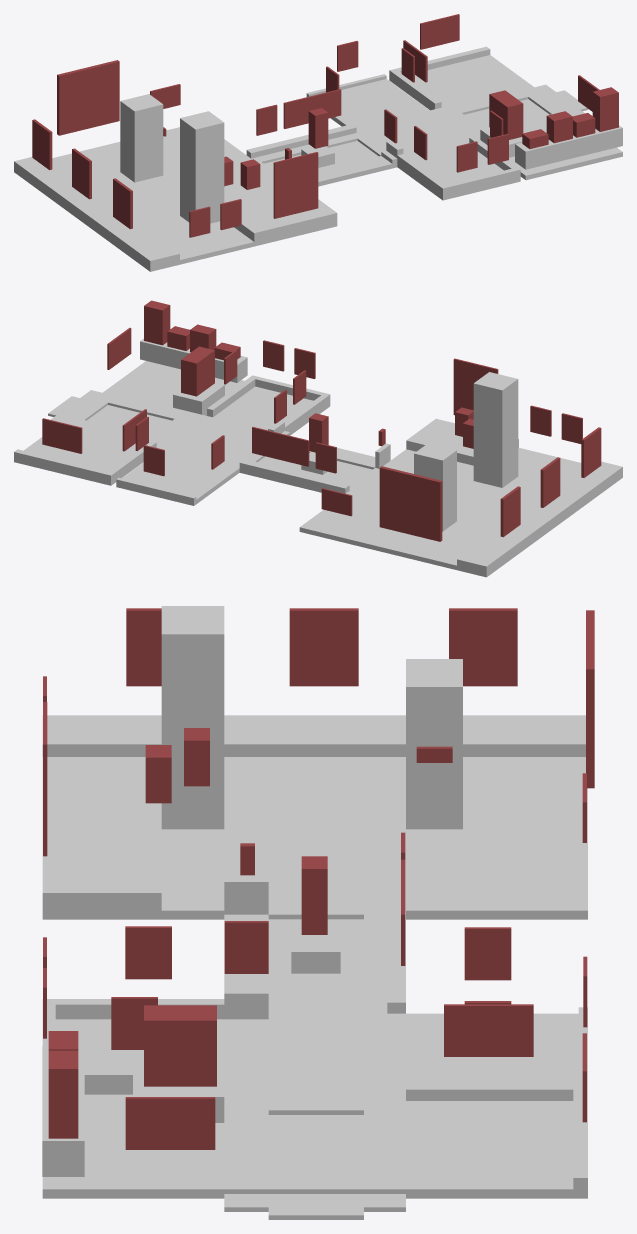
File: lapetitegalerie.fbx
The picture shows the model from 3 angles, top to bottom: view 1: azimuth 30°, elevation 25°; view 2: azimuth 150°, elevation 25°; view 3: azimuth 270°, elevation 25°; orthographic projection. The views are drawn at different scales.
Visible parts, largest first — view 1: Cube, Cube.028, Cube.018, Cube.029, Cube.017, Cube.001, Cube.006, Cube.032, Cube.024, Cube.023, Cube.025, Cube.004 (+16 smaller); view 2: Cube, Cube.028, Cube.017, Cube.001, Cube.029, Cube.018, Cube.006, Cube.032, Cube.024, Cube.023, Cube.025, Cube.022 (+12 smaller); view 3: Cube, Cube.001, Cube.023, Cube.024, Cube.003, Cube.005, Cube.029, Cube.025, Cube.032, Cube.012, Cube.007, Cube.014 (+5 smaller).
Part boxes in pixels (<box>): Cube: <box>14,46,622,271</box>; Cube.028: <box>57,60,119,135</box>; Cube.018: <box>273,152,318,218</box>; Cube.029: <box>515,125,622,169</box>; Cube.017: <box>283,89,341,128</box>; Cube.001: <box>489,90,523,139</box>; Cube.006: <box>420,14,459,49</box>; Cube.032: <box>592,87,618,131</box>; Cube.024: <box>32,119,52,170</box>; Cube.023: <box>72,148,91,199</box>; Cube.025: <box>113,178,132,229</box>; Cube.004: <box>308,108,328,148</box>; Cube: <box>14,361,622,577</box>; Cube.028: <box>379,466,442,541</box>; Cube.017: <box>252,427,309,466</box>; Cube.001: <box>181,346,214,396</box>; Cube.029: <box>140,338,247,382</box>; Cube.018: <box>453,358,498,415</box>; Cube.006: <box>42,418,82,453</box>; Cube.032: <box>144,300,170,345</box>; Cube.024: <box>500,486,520,537</box>; Cube.023: <box>540,457,560,507</box>; Cube.025: <box>581,427,601,477</box>; Cube.022: <box>321,488,352,516</box>; Cube: <box>42,606,587,1219</box>; Cube.001: <box>144,1005,216,1086</box>; Cube.023: <box>289,608,358,686</box>; Cube.024: <box>449,608,517,686</box>; Cube.003: <box>125,1097,215,1149</box>; Cube.005: <box>444,1004,533,1056</box>; Cube.029: <box>42,1046,84,1176</box>; Cube.025: <box>126,608,161,686</box>; Cube.032: <box>48,1050,78,1138</box>; Cube.012: <box>464,927,511,980</box>; Cube.007: <box>125,926,171,979</box>; Cube.014: <box>224,921,268,973</box>.
Bounding box in the file's own units: 628 × 124 × 303.
